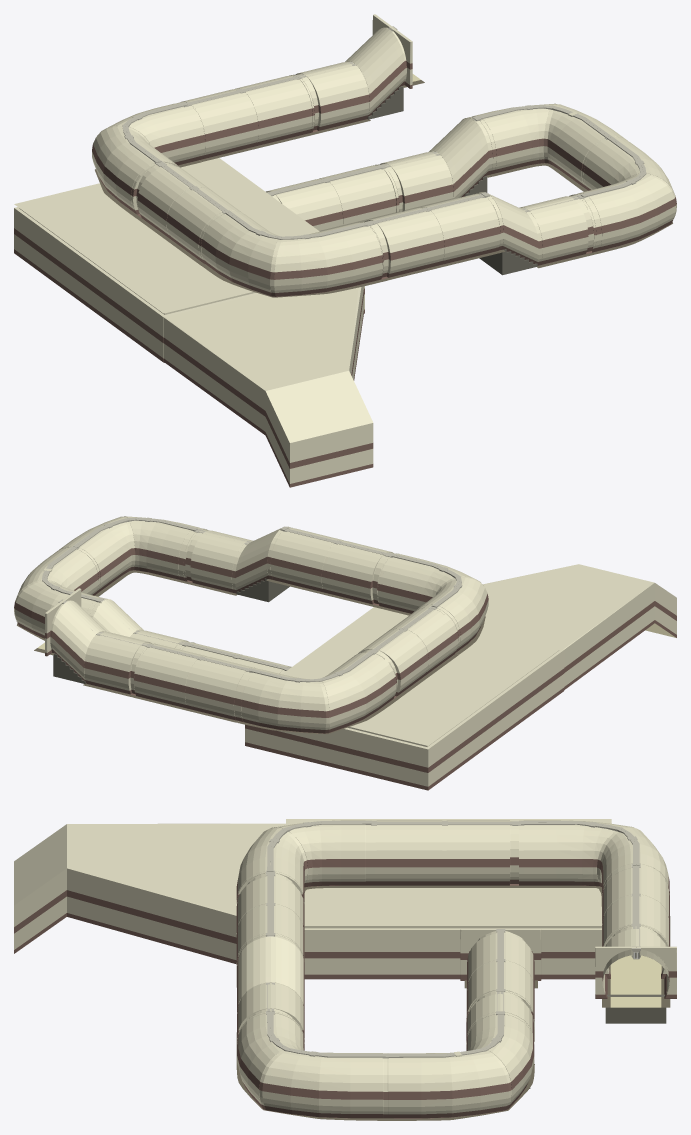
The model's file is ChannelA2.fbx.
3 views of the same model, one above another, from view 1: azimuth 30°, elevation 25°; view 2: azimuth 150°, elevation 25°; view 3: azimuth 270°, elevation 25° (orthographic). The views are drawn at different scales.
Visible parts, largest first — view 1: polySurface237; view 2: polySurface237; view 3: polySurface237.
Boxes of the visible parts, bbox=[...] form: polySurface237: bbox=[14, 14, 676, 487]; polySurface237: bbox=[14, 516, 676, 790]; polySurface237: bbox=[14, 819, 676, 1120].
Bounding box in the file's own units: 4786 × 1370 × 4869.
